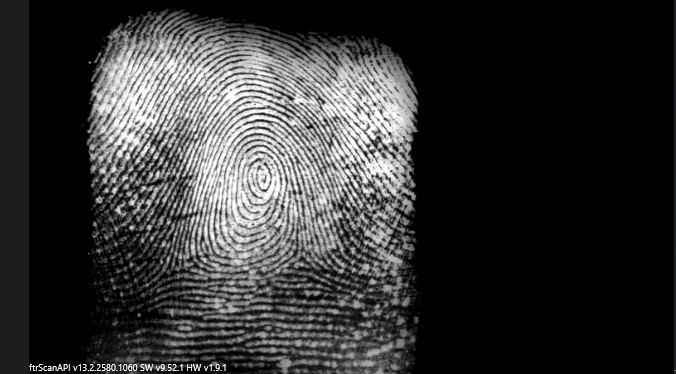deltas: (154, 245, 201, 291), (280, 230, 319, 278)
nucleo: (239, 150, 277, 198)
